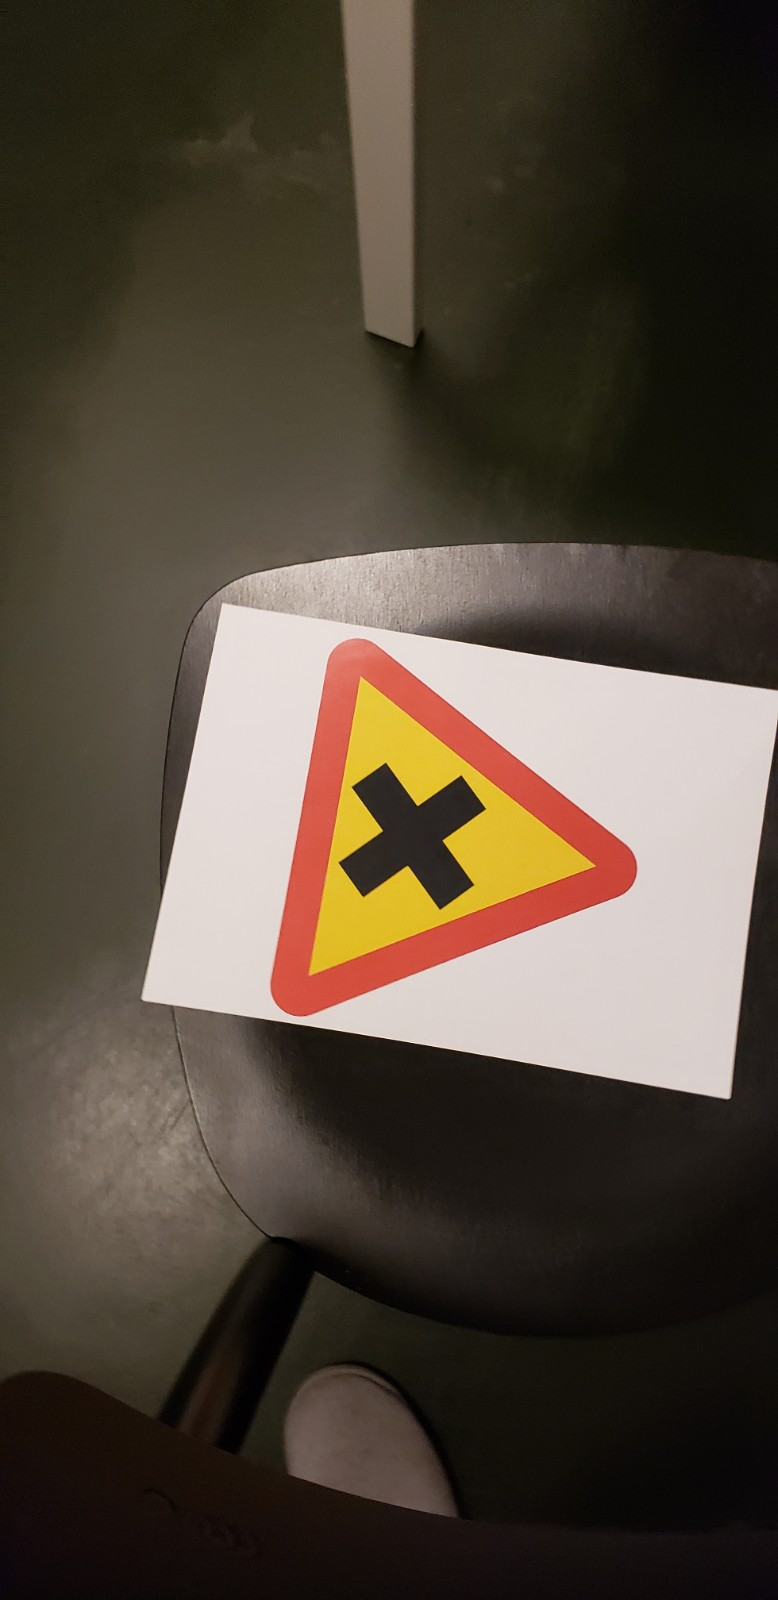junction: (268, 607, 682, 1124)
